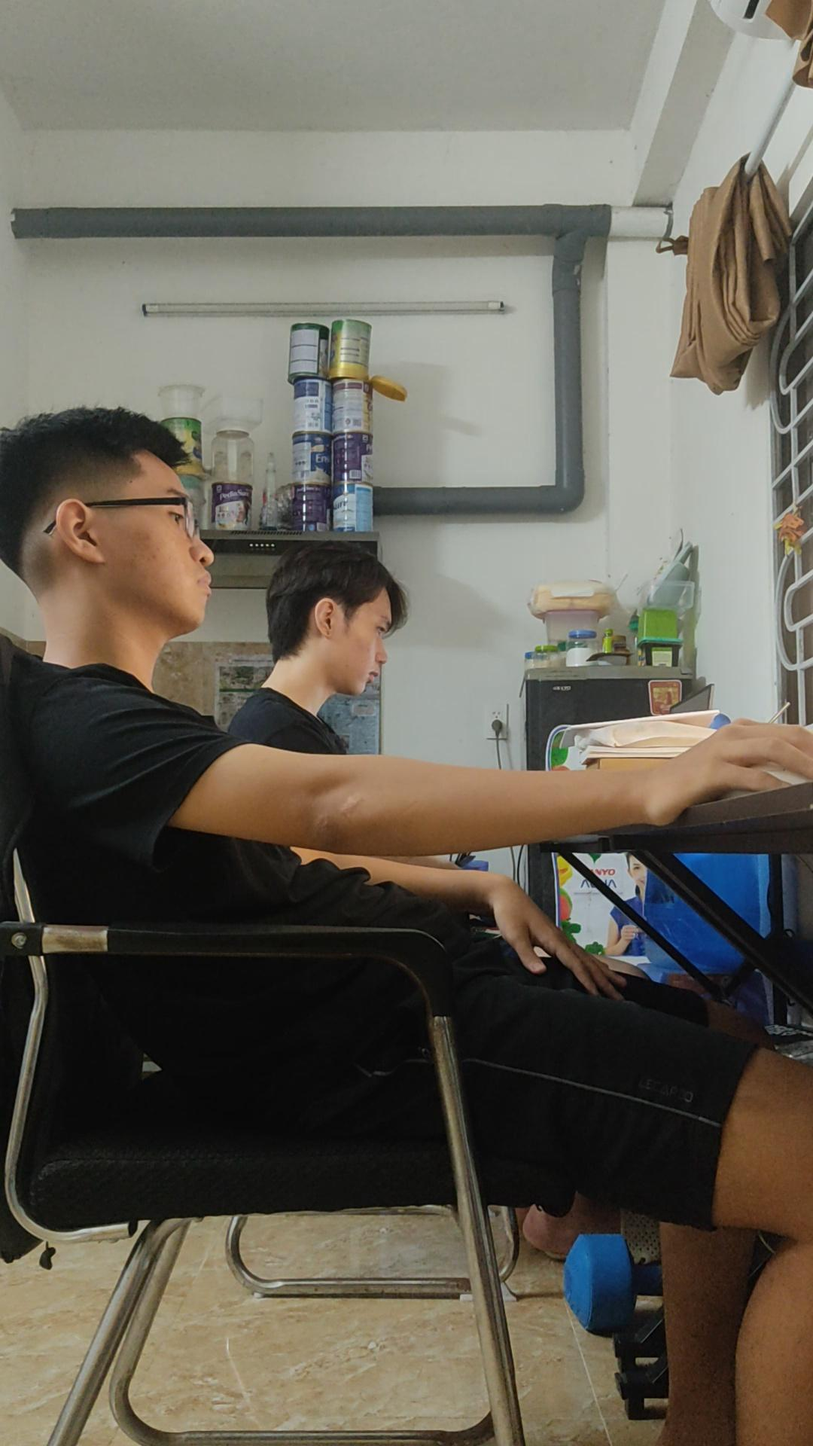BadPosture: (13, 415, 812, 1445)
